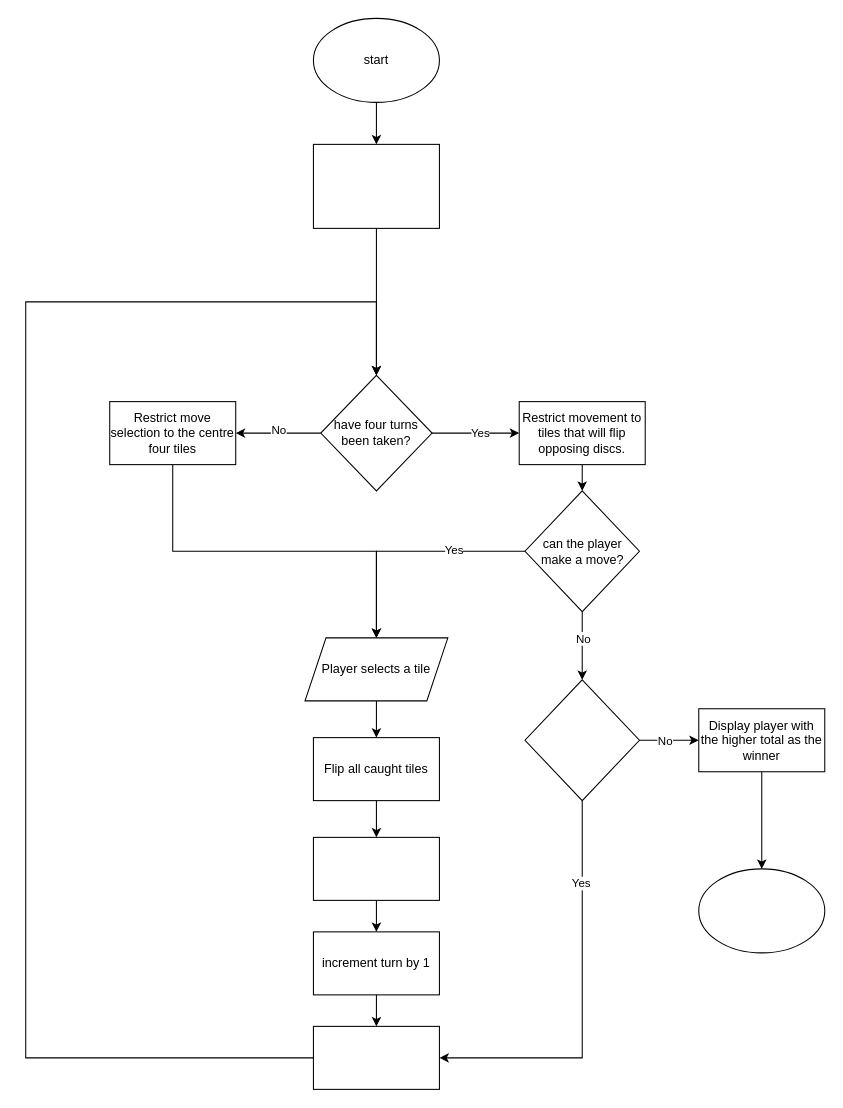
The diagram is 843 pixels wide and 1108 high, and some of its shapes have lost their labels. The shapes that lost their labels are listed below. From the top down, each one's centre as x and y in pixels, then its label:
the point at 375,185: Initialise board total_dark = 0 total_light = 0 turn = 1 player = 0 as boolean
the point at 581,740: can the next player make a move?
the point at 375,868: Count tiles of both colour
the point at 761,910: End
the point at 375,1057: Switch player
